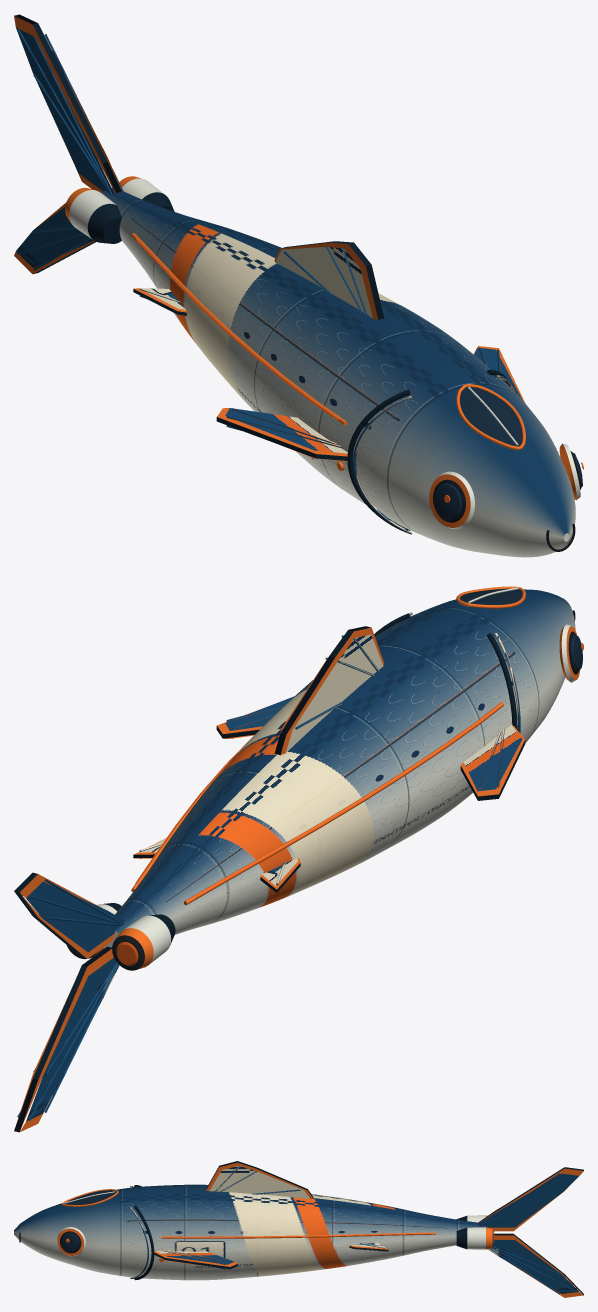
3 views of the same model, one above another, from view 1: azimuth 30°, elevation 25°; view 2: azimuth 150°, elevation 25°; view 3: azimuth 270°, elevation 25° (orthographic). The views are drawn at different scales.
Visible parts, largest first — view 1: sardine_hull; view 2: sardine_hull; view 3: sardine_hull.
Boxes of the visible parts, bbox=[...] form: sardine_hull: bbox=[14, 14, 583, 557]; sardine_hull: bbox=[14, 586, 583, 1132]; sardine_hull: bbox=[14, 1161, 583, 1297].
Bounding box in the file's own units: 4.8 × 4.25 × 16.2.
Materials: 1 (1 with a texture image).
